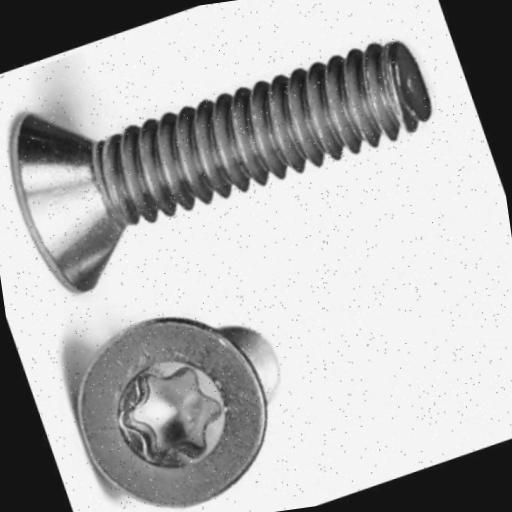Torx: (70, 301, 284, 512)
